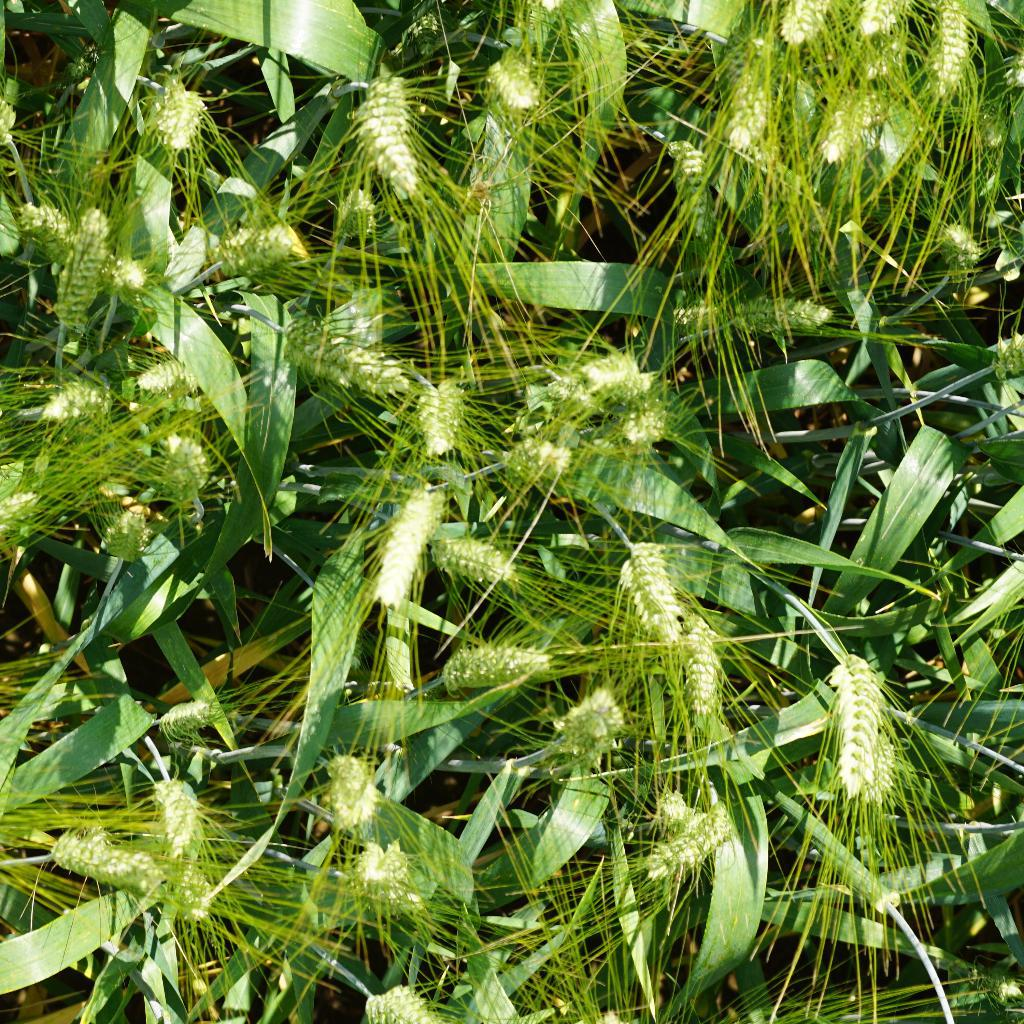0-0: (818, 641, 911, 825), (271, 310, 406, 414), (350, 63, 438, 205), (361, 467, 436, 605), (635, 806, 742, 899), (613, 533, 690, 661), (705, 18, 778, 148), (43, 825, 160, 897), (206, 206, 314, 281), (664, 612, 731, 725), (309, 740, 387, 836), (97, 493, 191, 572), (661, 134, 729, 243), (344, 833, 429, 916), (430, 527, 526, 600), (141, 770, 216, 863), (58, 193, 108, 331), (701, 280, 822, 336), (137, 64, 204, 157), (563, 680, 630, 772), (467, 43, 542, 123), (433, 642, 546, 695), (492, 434, 586, 496), (359, 979, 488, 1024), (18, 374, 112, 434), (137, 422, 220, 489), (109, 348, 208, 403), (130, 698, 230, 750), (925, 0, 987, 83), (417, 366, 474, 456), (576, 350, 657, 413), (594, 403, 681, 458), (813, 78, 866, 168), (11, 195, 82, 262), (640, 294, 729, 346), (524, 370, 600, 429), (952, 955, 1024, 1017), (171, 854, 221, 926), (933, 220, 993, 275), (851, 0, 918, 43), (333, 180, 380, 240), (780, 0, 843, 44), (646, 788, 698, 837), (398, 9, 446, 62), (104, 253, 157, 298), (57, 49, 91, 85)
